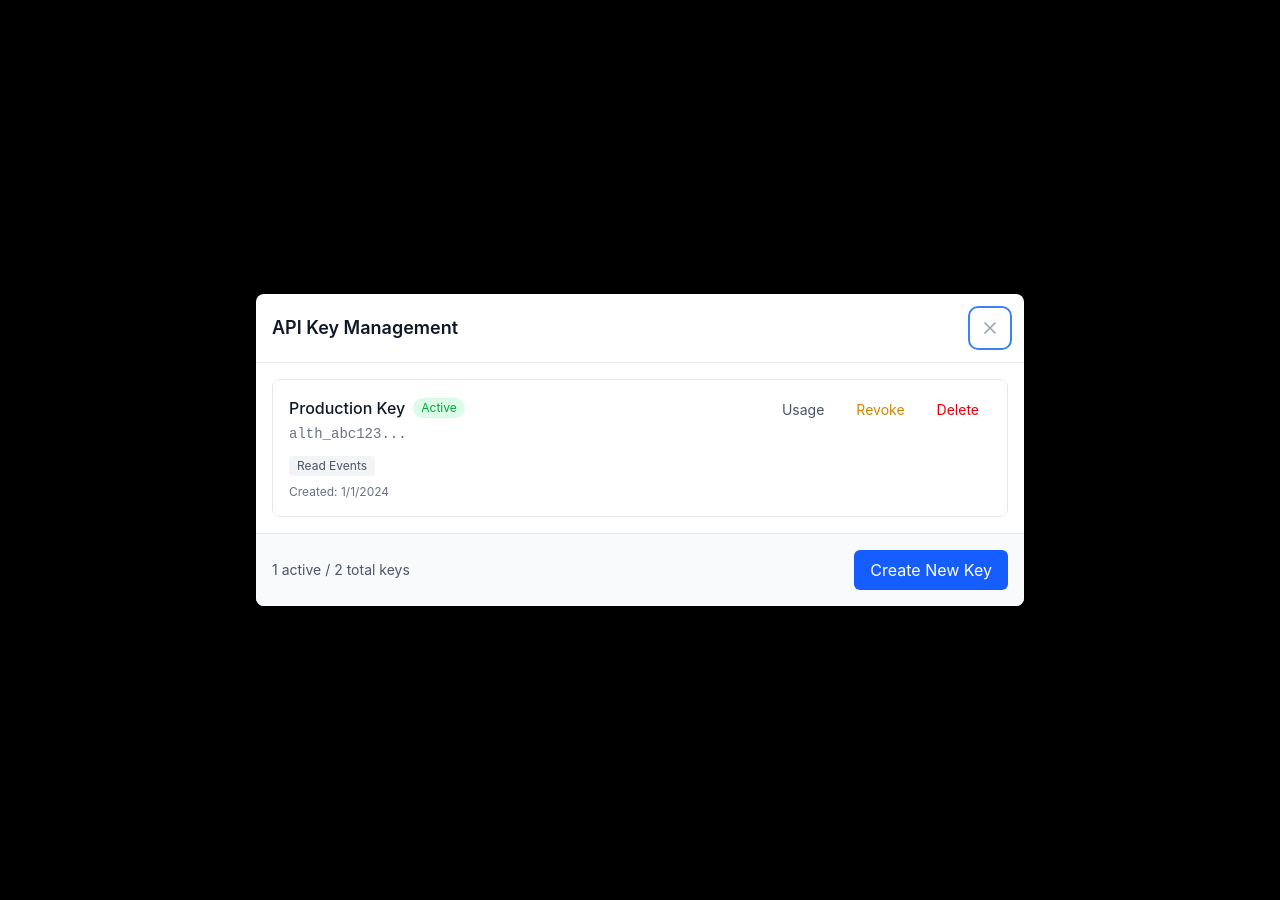
Test: ApiKeyDashboard › cancels the create view without creating a key
This screenshot has width=1280, height=900.
What coordinates should you click on to do the following:
click the button "Create New Key"
I would click on:
 (931, 570)
Its box is [854,550,1008,590].
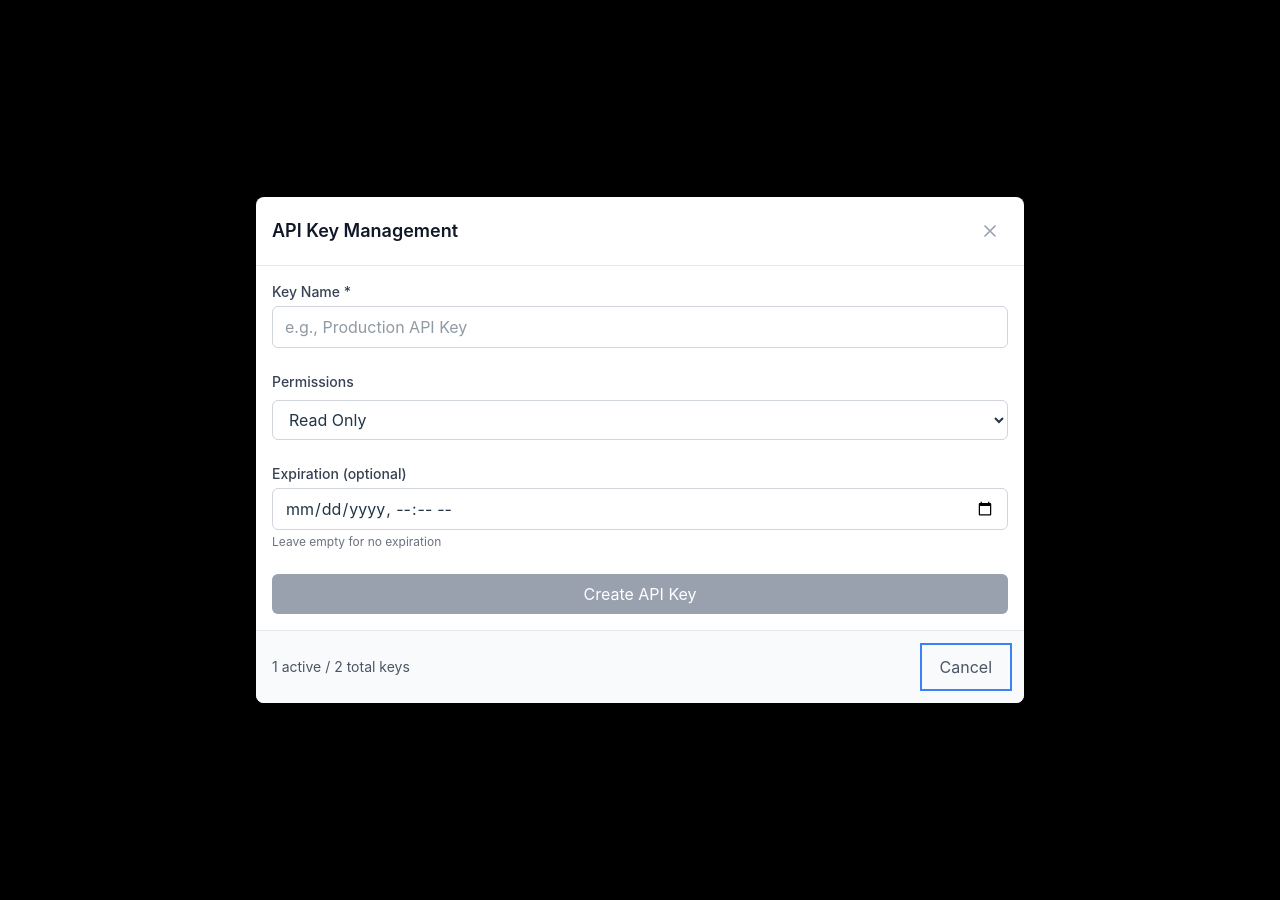
Expected: the button "Create API Key" is shown, [272,574,1008,614]
What coordinates should you click on to do the following:
click the button "Cancel"
I would click on:
 (966, 667)
Its box is [924,647,1008,687].
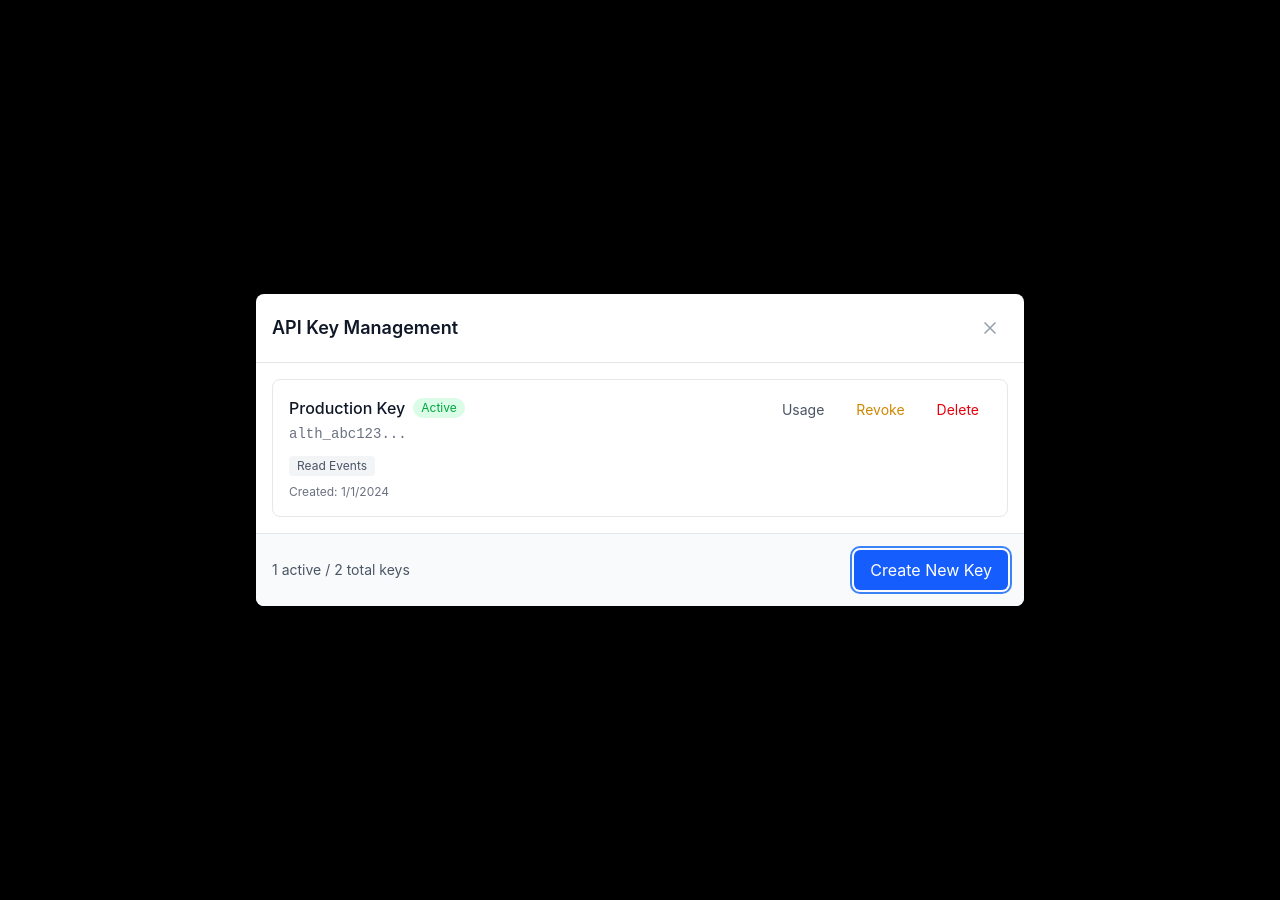
Expected: the button "Create API Key" is gone
